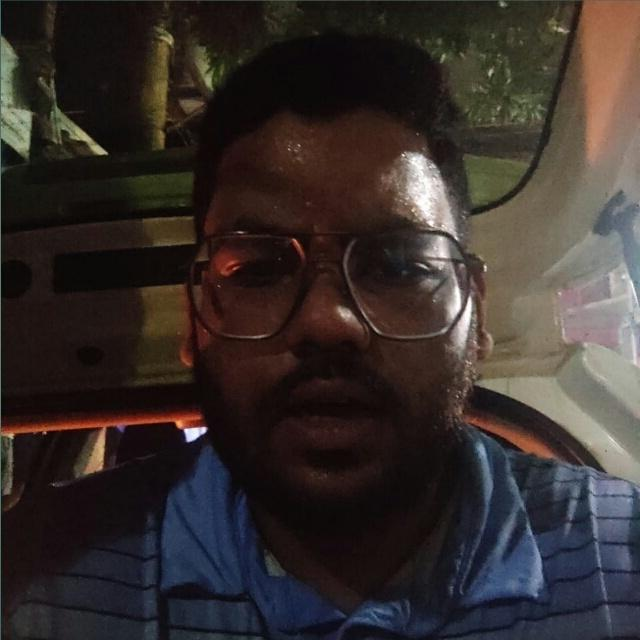Disgust: (154, 91, 545, 530)
